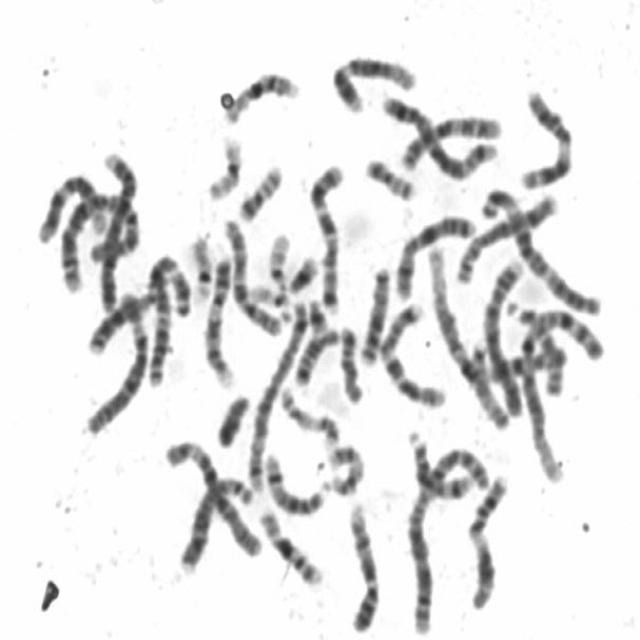A1: (422, 236, 524, 424), (508, 297, 606, 488)
A2: (401, 433, 491, 636), (54, 176, 142, 295)
A3: (474, 178, 603, 317), (139, 247, 192, 388)
B4: (478, 251, 527, 420), (93, 144, 141, 316)
B5: (240, 292, 314, 492), (376, 84, 500, 179)
C10: (217, 210, 285, 338), (393, 106, 504, 173)
C11: (461, 466, 512, 612), (512, 79, 576, 189)
C12: (326, 46, 420, 114), (31, 164, 108, 246)
C6: (158, 428, 266, 558), (78, 281, 153, 438)
C7: (373, 292, 449, 410), (302, 153, 347, 318)
C8: (450, 185, 562, 286), (172, 468, 255, 575)
C9: (340, 494, 382, 635), (198, 246, 237, 388)
D13: (82, 282, 159, 358), (352, 256, 393, 366)
D14: (402, 421, 476, 501), (257, 443, 329, 518)
D15: (504, 295, 568, 400), (462, 332, 511, 431)
E16: (251, 499, 326, 588), (216, 61, 303, 126)
E17: (273, 378, 342, 450), (317, 435, 368, 498)
E18: (288, 321, 342, 388), (332, 316, 366, 404)
F19: (200, 128, 246, 202), (182, 228, 215, 304)
F20: (231, 154, 286, 223), (358, 148, 419, 202)
G21: (280, 246, 322, 295), (302, 290, 331, 337)
G22: (262, 221, 294, 290), (245, 275, 294, 315)
X: (387, 205, 478, 301)
Y: (210, 384, 253, 449)
